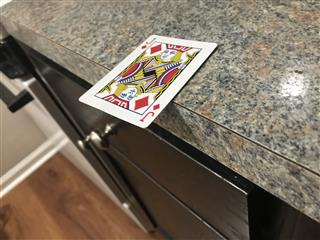JackOfDiamonds: (77, 33, 217, 128)
